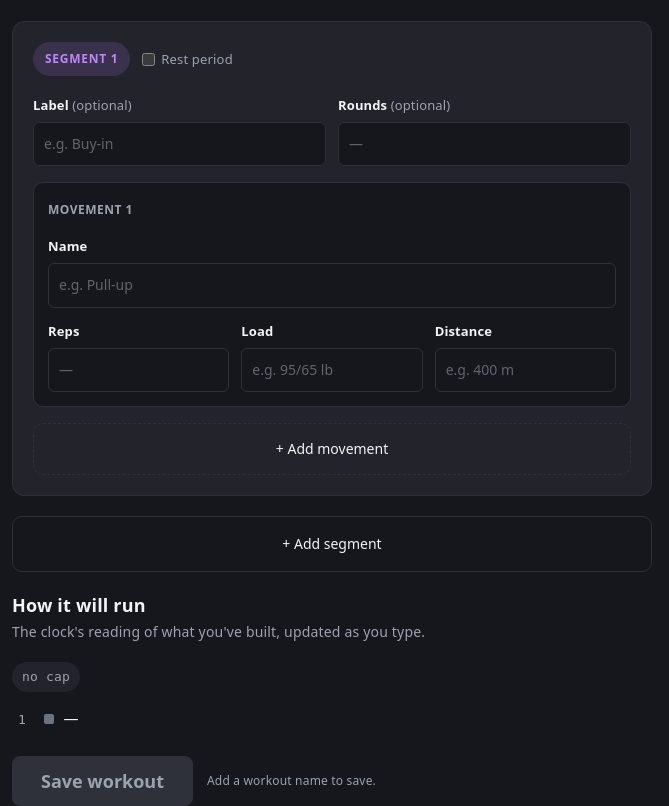
Scenario: segments and movements › adds and removes segments
(page scrolled)
Click the button "+ Add segment" at x=332, y=544, box [12,516,652,572]
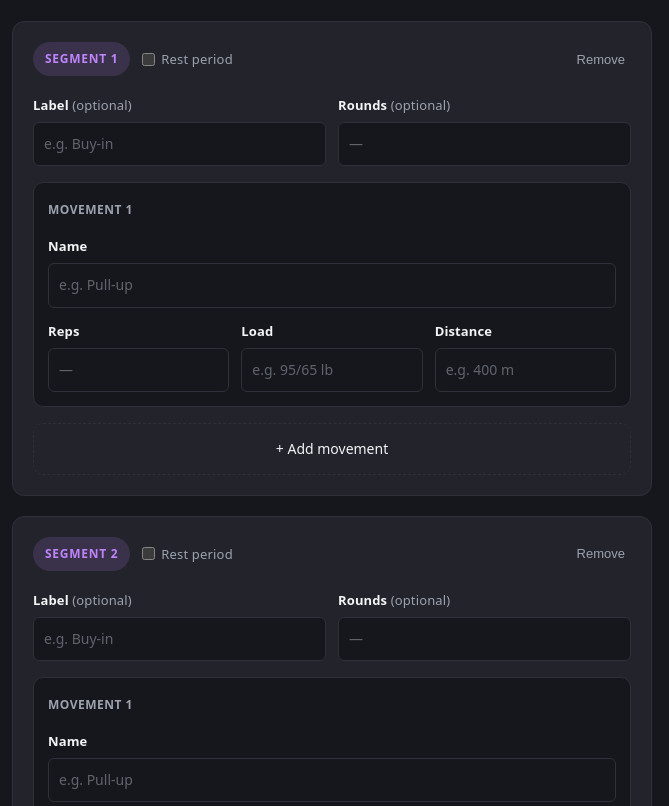
Now the text "Segment 2" is shown, box [33,537,130,571]
Click the 2nd button "Remove" at x=601, y=554, box [571,542,631,565]
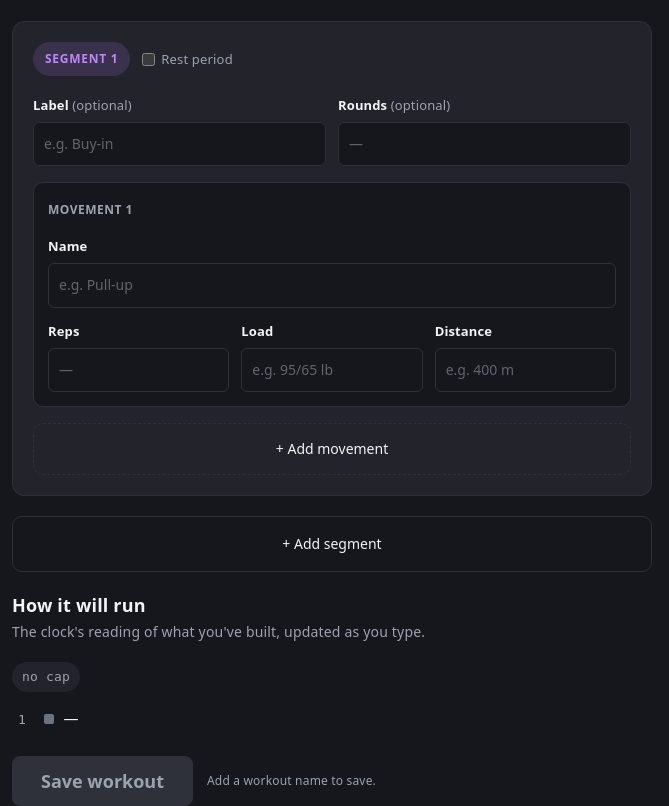
Now the text "Segment 2" is gone
